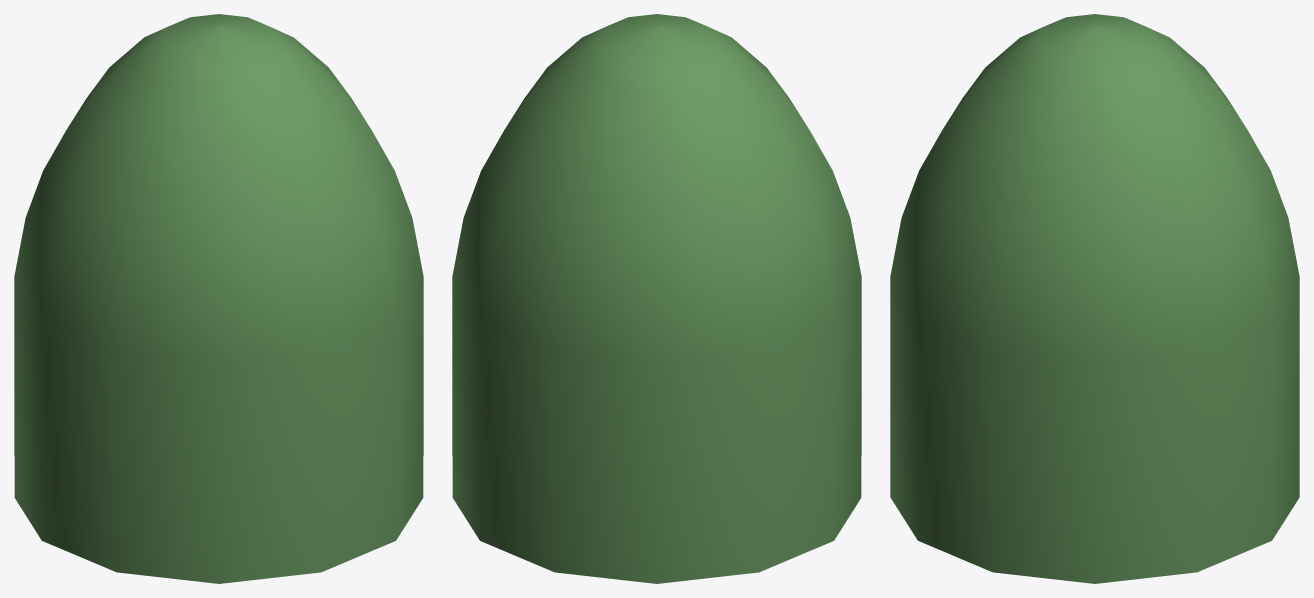
The model's file is Mountain_Mahogany_Analytical_0.obj.
3 renders of one model, left to right at view 1: azimuth 30°, elevation 25°; view 2: azimuth 150°, elevation 25°; view 3: azimuth 270°, elevation 25°, orthographic.
Parts seen in each view (by area): view 1: AnalyticalCrown; view 2: AnalyticalCrown; view 3: AnalyticalCrown.
Boxes of the visible parts, x1=… form: AnalyticalCrown: x1=14, y1=14, x2=423, y2=583; AnalyticalCrown: x1=452, y1=14, x2=861, y2=583; AnalyticalCrown: x1=890, y1=14, x2=1299, y2=583.
Bounding box in the file's own units: 2.76 × 3.5 × 2.76.
